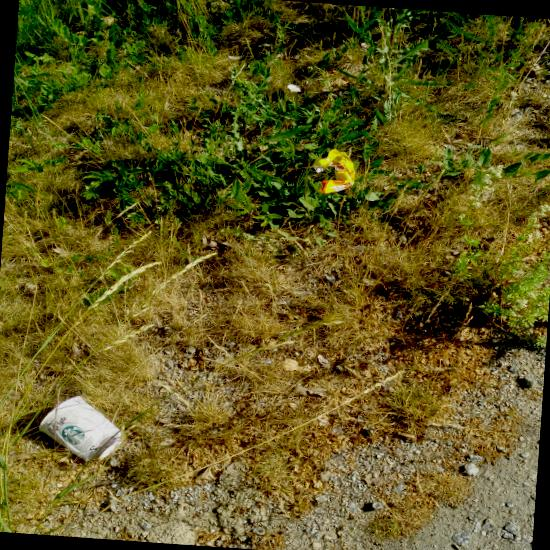Cigarette: (418, 197, 430, 200), (404, 67, 412, 71), (411, 320, 414, 329)
Disposable plastic cup: (305, 254, 347, 296), (386, 334, 432, 370)
Plastic lid: (387, 334, 432, 366), (313, 254, 347, 270)
Plastic straw: (403, 337, 456, 353), (325, 240, 340, 289)
